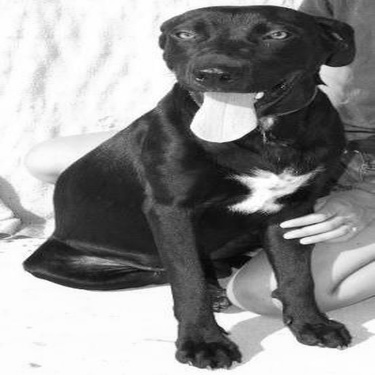dog: (15, 1, 361, 371)
